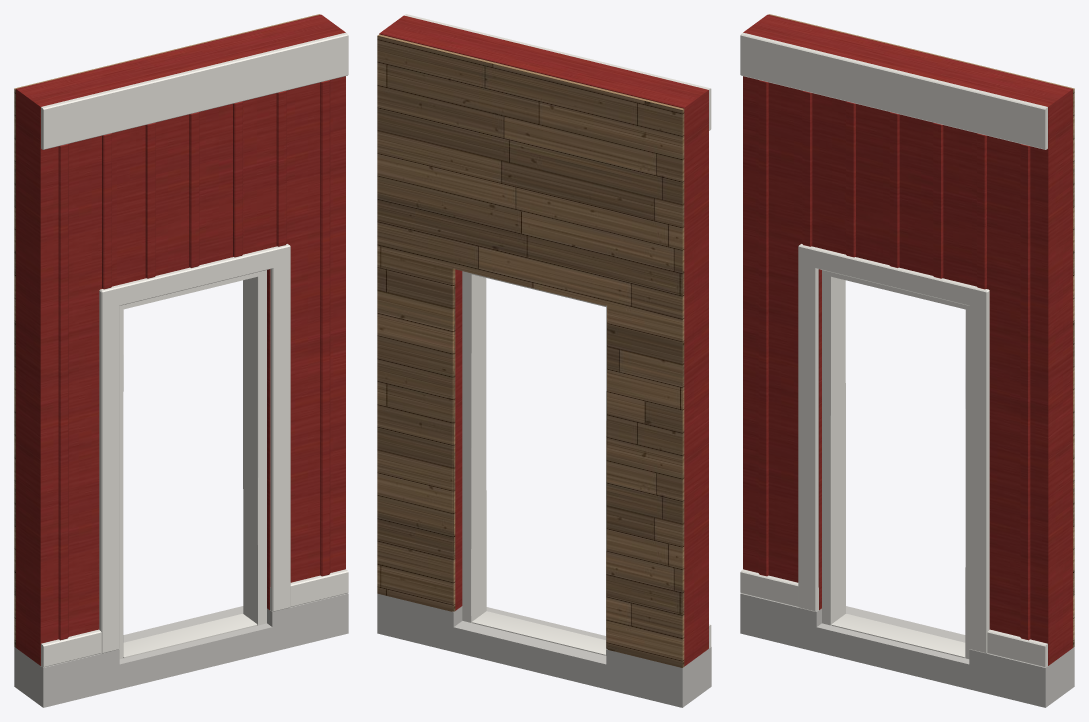
File: barn_wall_door.glb
The picture shows the model from 3 angles, left to right: view 1: azimuth 30°, elevation 25°; view 2: azimuth 150°, elevation 25°; view 3: azimuth 330°, elevation 25°; orthographic projection.
Parts seen in each view (by area): view 1: barn_wall_door_barn, barn_wall_door_trim, barn_wall_door_concrete, barn_wall_door_frame, barn_wall_door_planks; view 2: barn_wall_door_planks, barn_wall_door_barn, barn_wall_door_concrete, barn_wall_door_frame, barn_wall_door_trim; view 3: barn_wall_door_barn, barn_wall_door_trim, barn_wall_door_concrete, barn_wall_door_frame, barn_wall_door_planks.
Part boxes in pixels (box(x1,y1,x2,y2)): barn_wall_door_barn: box(16, 14, 345, 665); barn_wall_door_trim: box(41, 32, 348, 667); barn_wall_door_concrete: box(14, 593, 348, 707); barn_wall_door_frame: box(119, 270, 266, 658); barn_wall_door_planks: box(14, 14, 319, 647); barn_wall_door_planks: box(377, 34, 684, 667); barn_wall_door_barn: box(379, 15, 708, 666); barn_wall_door_concrete: box(377, 593, 711, 707); barn_wall_door_frame: box(462, 271, 606, 655); barn_wall_door_trim: box(404, 14, 711, 648); barn_wall_door_barn: box(743, 14, 1072, 665); barn_wall_door_trim: box(740, 32, 1047, 667); barn_wall_door_concrete: box(740, 593, 1074, 707); barn_wall_door_frame: box(822, 270, 969, 658); barn_wall_door_planks: box(769, 14, 1074, 647).
Bounding box in the file's own units: 2 × 3.75 × 0.335.
5 materials, 2 textured.
